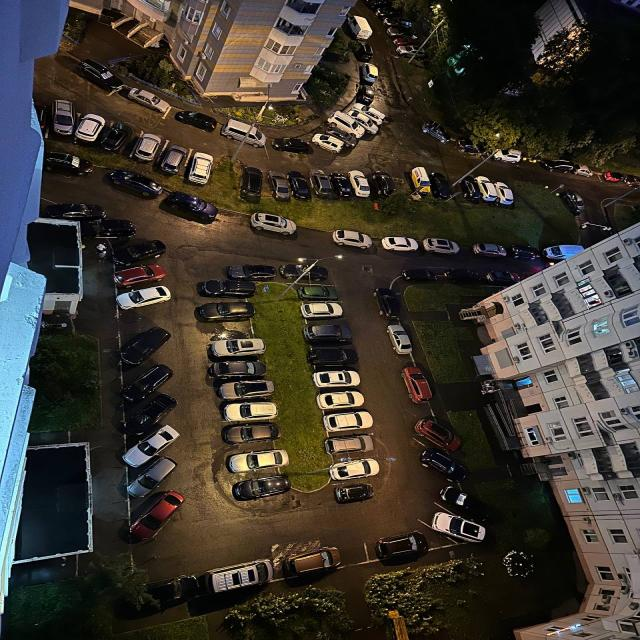car: (111, 488, 188, 549), (188, 559, 278, 605), (435, 481, 505, 534), (111, 391, 180, 440), (116, 422, 181, 472), (408, 411, 468, 461), (416, 442, 476, 490), (280, 543, 353, 581), (366, 527, 436, 566), (426, 505, 491, 547), (125, 455, 182, 500), (118, 363, 176, 404), (115, 326, 172, 367), (218, 116, 270, 154), (160, 191, 218, 225), (103, 169, 163, 200), (115, 81, 168, 115), (228, 473, 292, 501), (70, 56, 121, 91), (78, 215, 137, 244), (208, 378, 282, 401), (396, 364, 437, 405), (40, 149, 96, 179), (191, 287, 258, 312), (226, 449, 291, 474), (114, 285, 173, 312), (212, 399, 281, 422), (321, 466, 384, 491), (109, 239, 167, 266), (315, 412, 378, 436), (59, 97, 102, 132), (247, 208, 298, 237), (204, 357, 271, 379), (211, 422, 277, 444), (191, 262, 254, 285), (85, 107, 127, 141), (110, 264, 169, 288), (322, 492, 378, 517), (179, 139, 213, 180), (149, 132, 188, 167), (281, 252, 335, 277), (225, 248, 281, 272), (303, 342, 364, 364), (321, 438, 379, 461), (303, 318, 359, 341), (121, 120, 158, 154), (371, 286, 403, 324), (210, 336, 265, 358), (382, 323, 415, 359), (171, 108, 220, 132), (308, 367, 363, 388), (327, 111, 366, 140), (41, 204, 107, 221), (312, 391, 368, 411), (42, 84, 69, 125), (299, 274, 349, 295), (238, 163, 267, 199), (300, 293, 351, 313), (265, 162, 293, 197), (419, 118, 450, 149), (346, 108, 380, 136), (323, 124, 361, 149), (342, 164, 369, 198), (284, 164, 310, 199), (304, 163, 332, 195), (407, 167, 435, 199), (368, 166, 395, 198), (331, 229, 373, 249), (322, 166, 350, 196), (311, 131, 346, 154), (458, 175, 485, 204), (353, 102, 387, 125), (444, 267, 482, 287), (474, 175, 500, 204), (270, 137, 314, 154), (401, 267, 442, 285), (429, 171, 453, 200), (544, 245, 587, 261), (381, 236, 419, 253), (422, 237, 460, 254), (485, 271, 523, 288), (453, 141, 486, 160), (472, 242, 508, 258), (563, 190, 586, 215), (510, 245, 541, 263), (495, 181, 516, 207), (492, 149, 523, 166), (545, 160, 575, 174), (572, 163, 593, 178)
